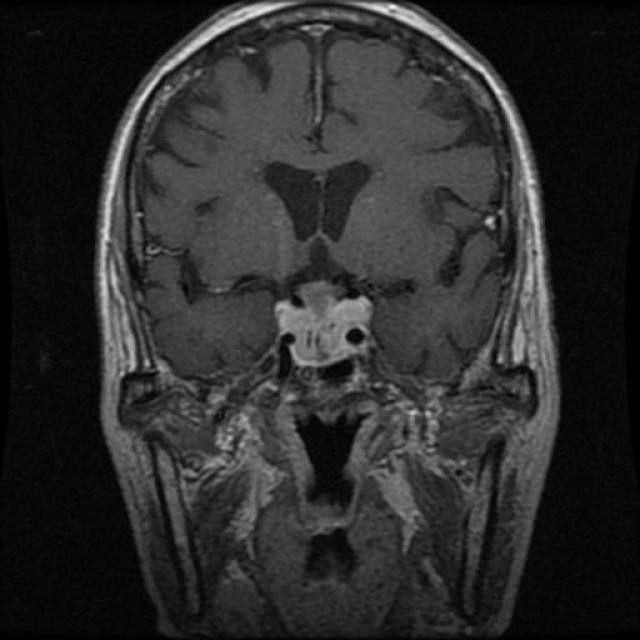pituitary: (265, 268, 375, 370)
